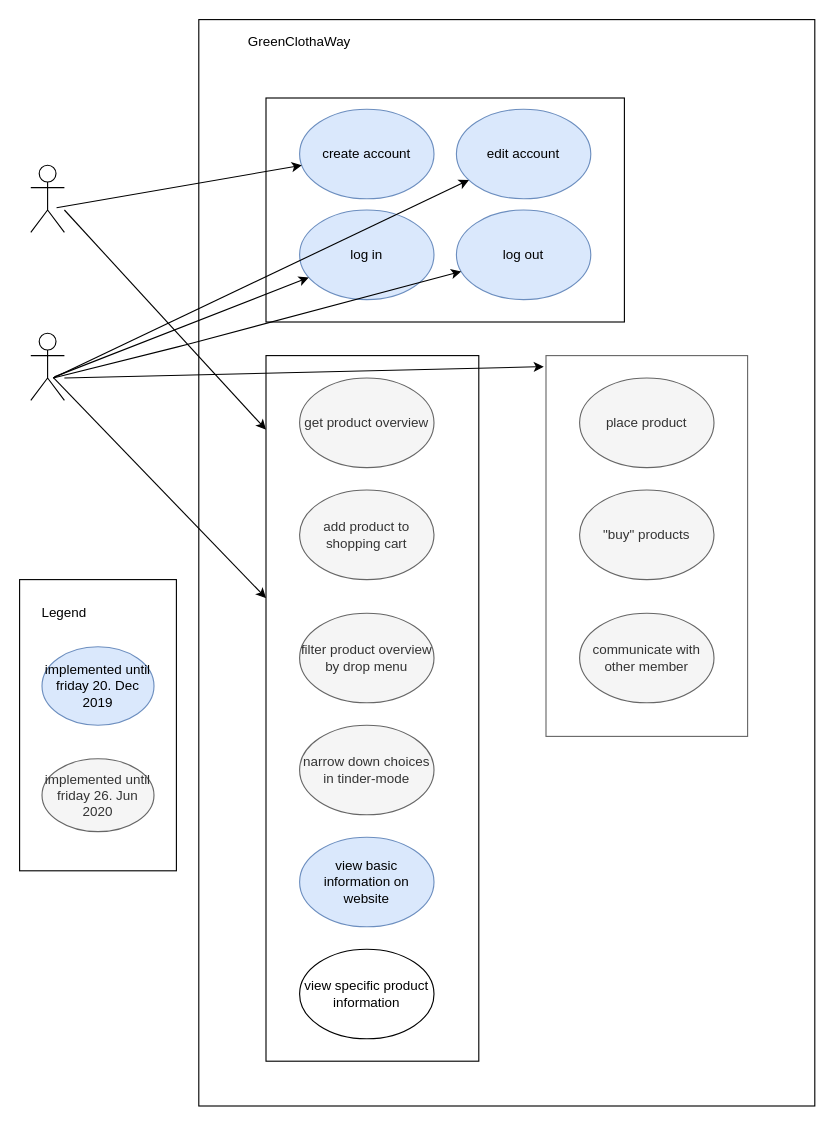
Image size: 834x1126. Some labels were removed from this diagram. The box of each missing label's shape, as (x1, y1, x2, y2) in pixels:
Guest: (30, 164, 64, 232)
Member: (30, 332, 64, 400)
